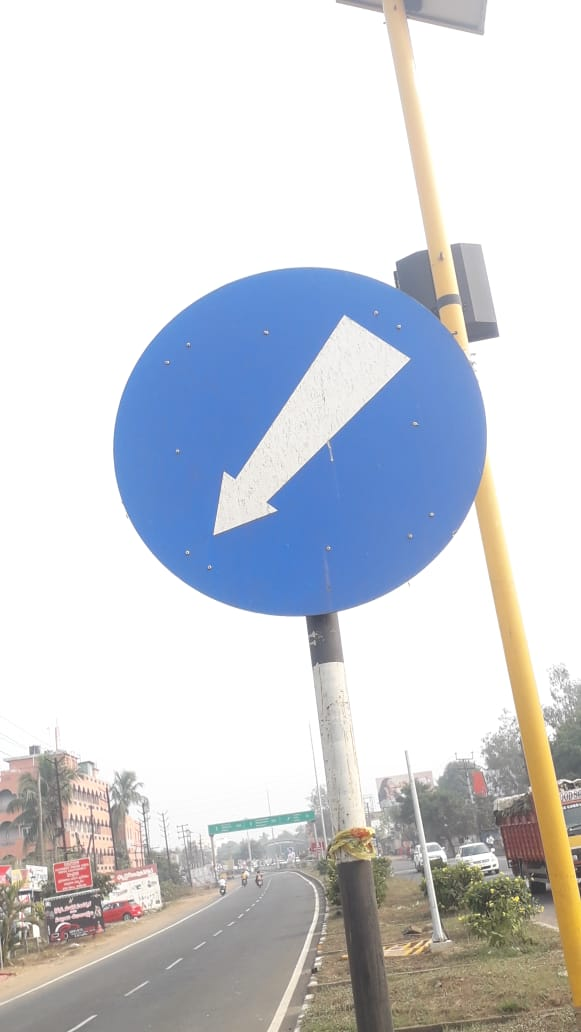go left: (106, 239, 495, 625)
